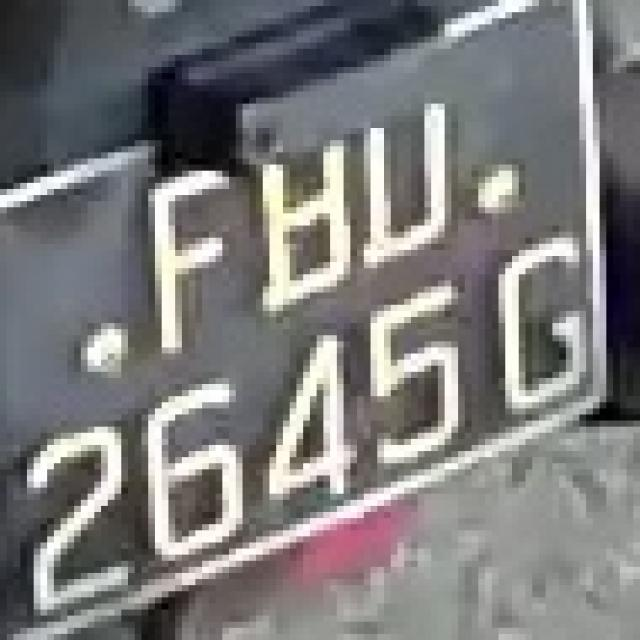2: (13, 408, 155, 628)
4: (242, 311, 364, 530)
5: (364, 281, 485, 464)
6: (128, 366, 249, 560)
B: (256, 116, 371, 311)
D: (357, 73, 465, 256)
F: (128, 140, 249, 348)
G: (478, 244, 600, 421)
